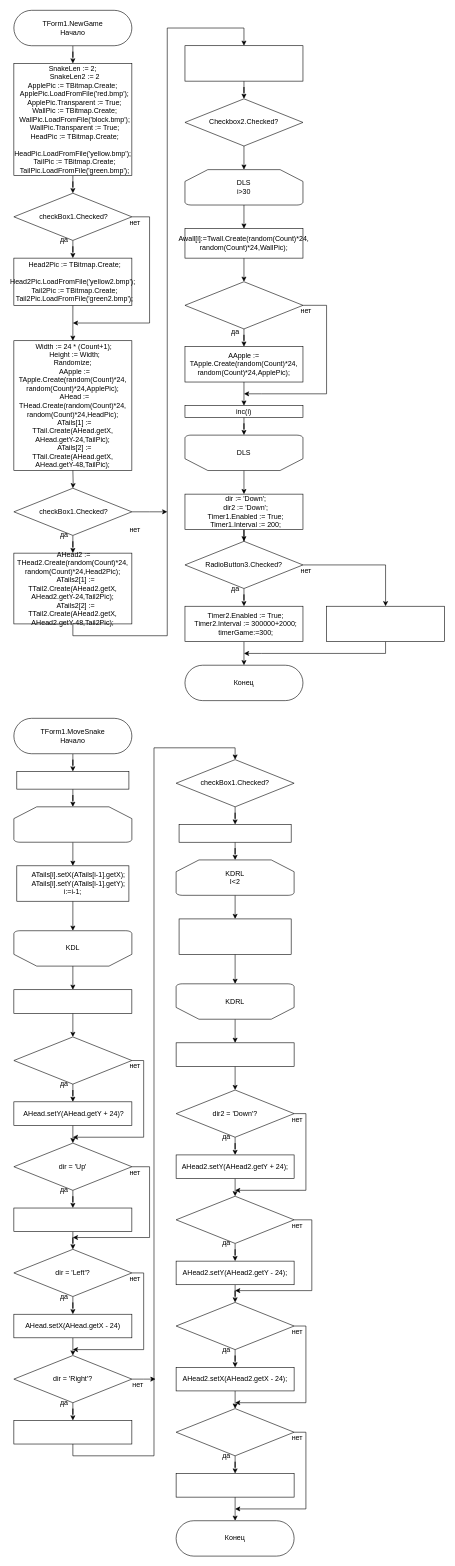
The diagram is 455 pixels wide and 1566 high, and some of its shapes have lost their labels. Here are the shapes that lost their labels. From the top down, the box of each, then its label:
(184, 45, 303, 81): z:=0; I:=1;
(184, 281, 303, 329): (AWall[i].getX = AApple.getX) and (AWall[i].gety = AApple.gety)
(326, 606, 445, 642): timerGame:=0; Timer3.Enabled := True; Timer3.Interval :=1000;
(16, 771, 129, 789): i:=SnakeLen
(13, 806, 132, 842): KDL I<2
(178, 824, 291, 842): i:=SnakeLen2
(178, 918, 291, 954): ATails2[i].setX(ATails2[i-1].getX); ATails2[i].setY(ATails2[i-1].getY); i:=i-1;
(13, 989, 132, 1013): ATails[1].setX(AHead.getX); ATails[1].setY(AHead.getY);
(13, 1036, 132, 1084): dir = 'Down'?
(176, 1042, 294, 1066): ATails2[1].setX(AHead2.getX); ATails2[1].setY(AHead2.getY);
(13, 1207, 132, 1232): AHead.setY(AHead.getY - 24);
(176, 1196, 294, 1243): dir2 = 'Up'
(176, 1302, 294, 1350): dir2 = 'Left'
(13, 1420, 132, 1444): AHead.setX(AHead.getX + 24);
(176, 1408, 294, 1456): dir2 = 'Right'
(176, 1473, 294, 1497): AHead2.setX(AHead2.getX + 24);
